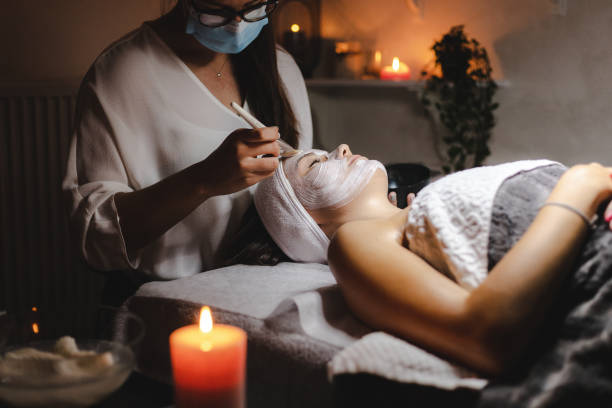with mask: (182, 1, 273, 59)
without mask: (246, 137, 400, 227)
